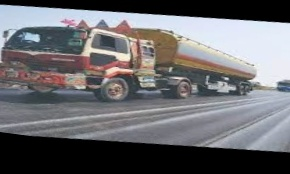truck: (0, 1, 266, 129), (273, 78, 290, 95)
